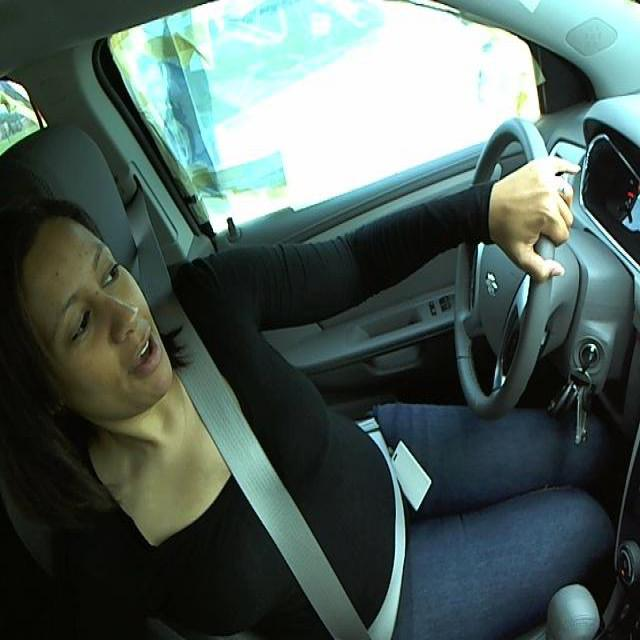seatbelt: (167, 374, 407, 638)
